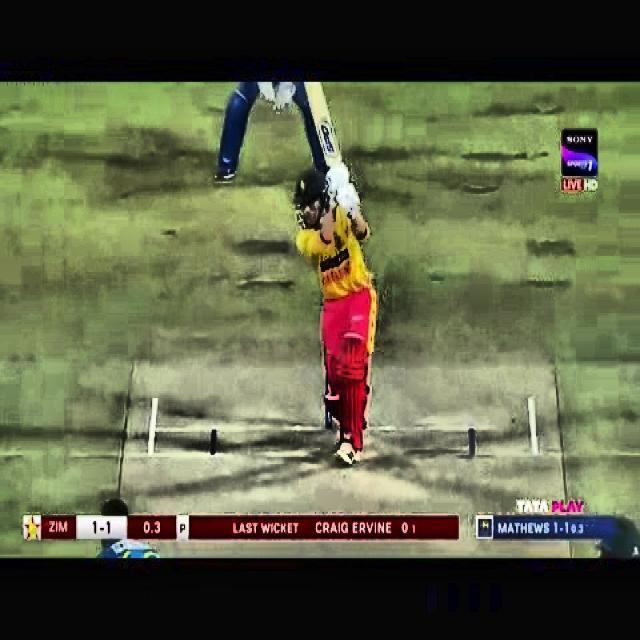Left-stump: (326, 408, 334, 428)
